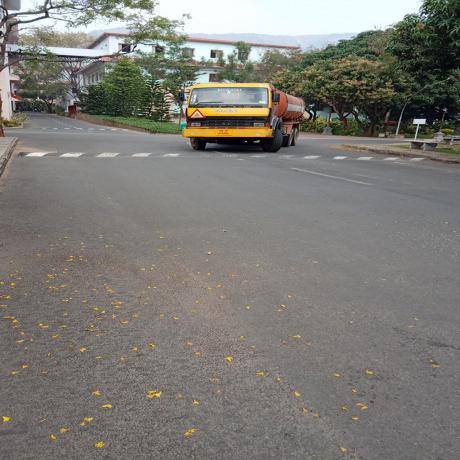Speed Bump: (15, 152, 431, 162), (31, 127, 129, 131)
